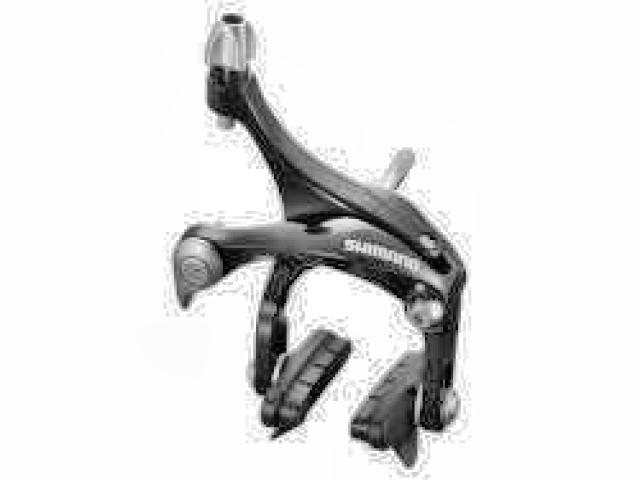rim_brake: (169, 9, 463, 468)
